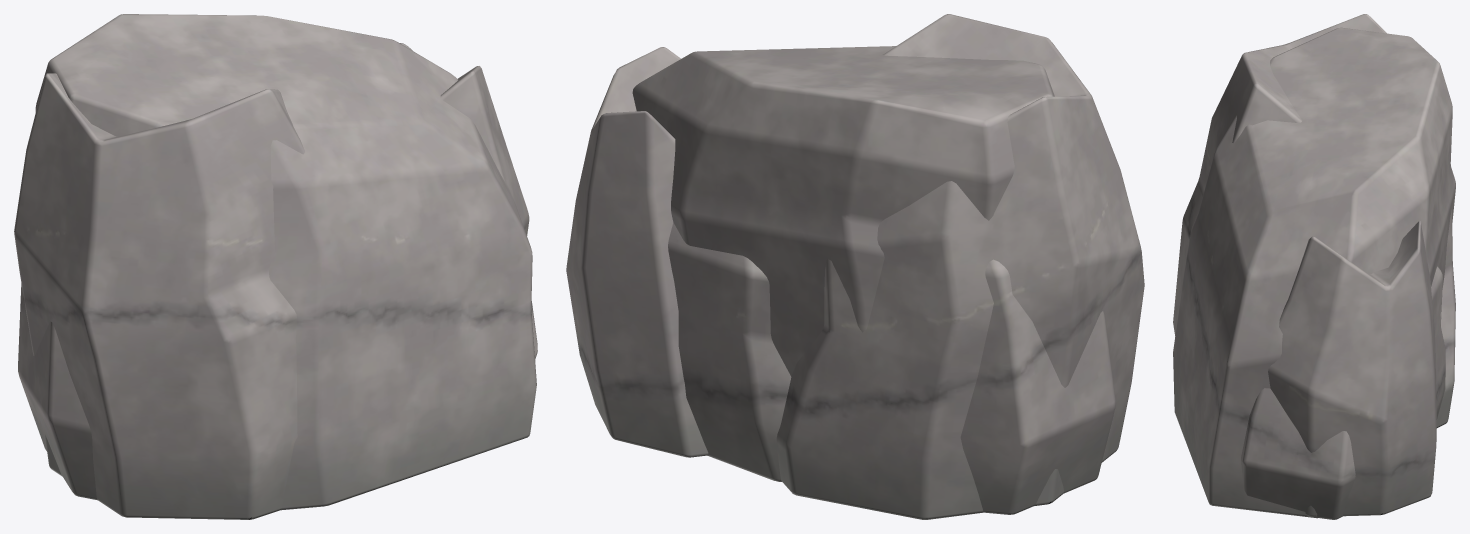
The model's file is cliff-rock.glb.
The picture shows the model from 3 angles, left to right: view 1: azimuth 30°, elevation 25°; view 2: azimuth 150°, elevation 25°; view 3: azimuth 270°, elevation 25°; orthographic projection. The views are drawn at different scales.
Visible parts, largest first — view 1: cliff-rock-bed, cliff-rock-step; view 2: cliff-rock-bed, cliff-rock-step; view 3: cliff-rock-bed, cliff-rock-step.
Boxes of the visible parts, bbox=[...] form: cliff-rock-bed: bbox=[18, 14, 536, 510]; cliff-rock-step: bbox=[14, 73, 537, 519]; cliff-rock-bed: bbox=[566, 46, 1115, 514]; cliff-rock-step: bbox=[668, 14, 1144, 519]; cliff-rock-bed: bbox=[1173, 27, 1455, 518]; cliff-rock-step: bbox=[1173, 14, 1455, 519].
Size of the model in its own units: 4.5 by 3.49 by 2.7.
Materials: 1 (1 with a texture image).
